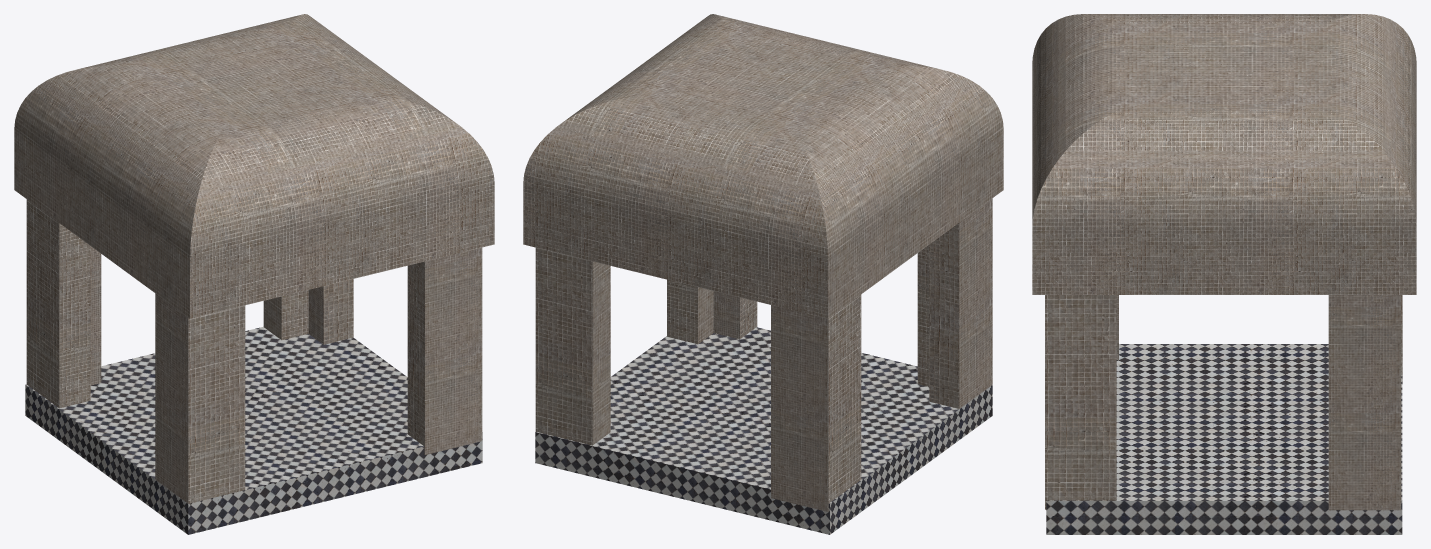
The model's file is straftat map-4.fbx.
3 views of the same model, side by side, from view 1: azimuth 30°, elevation 25°; view 2: azimuth 150°, elevation 25°; view 3: azimuth 270°, elevation 25° (orthographic). The views are drawn at different scales.
Parts seen in each view (by area): view 1: Cube.004, Cube, Cube.002, Cube.001, Cube.003, Cube.009; view 2: Cube.004, Cube, Cube.003, Cube.009, Cube.002, Cube.001; view 3: Cube.004, Cube, Cube.009, Cube.001.
Part boxes in pixels (x1,y1,x2,y2): Cube.004: [14, 14, 494, 318]; Cube: [25, 326, 482, 534]; Cube.002: [155, 293, 245, 503]; Cube.001: [407, 247, 482, 454]; Cube.003: [26, 199, 101, 408]; Cube.009: [263, 279, 353, 344]; Cube.004: [523, 14, 1003, 318]; Cube: [535, 327, 992, 534]; Cube.003: [771, 294, 861, 511]; Cube.009: [535, 247, 610, 445]; Cube.002: [917, 198, 992, 408]; Cube.001: [667, 279, 757, 344]; Cube.004: [1032, 14, 1416, 294]; Cube: [1046, 344, 1402, 534]; Cube.009: [1328, 295, 1401, 510]; Cube.001: [1045, 295, 1116, 509].
Bounding box in the file's own units: 10.95 × 12.28 × 10.95.
Materials: 5 (5 with a texture image).
